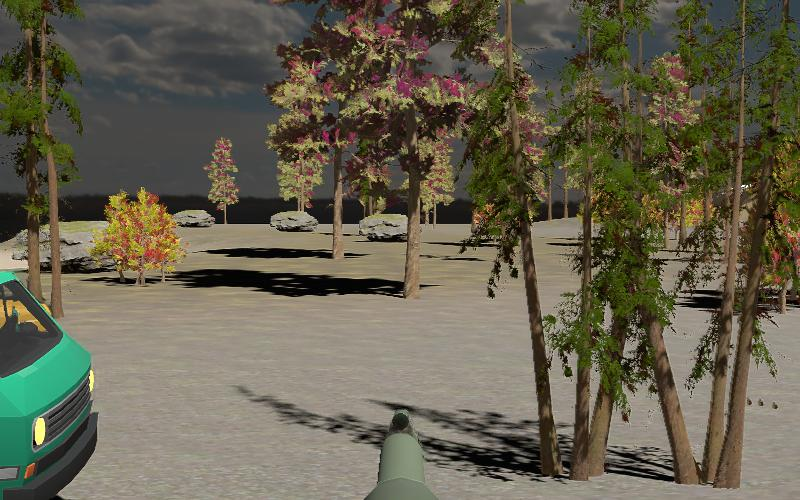car: (0, 264, 98, 496)
